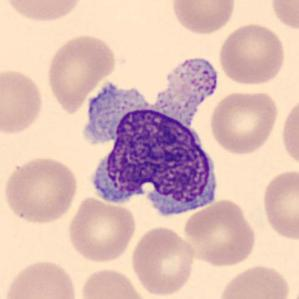Monocyte: (80, 56, 223, 222)
RBC: (44, 31, 118, 114), (0, 155, 80, 226), (181, 198, 258, 268), (65, 195, 137, 264), (207, 88, 280, 156), (129, 225, 197, 297), (217, 20, 287, 87), (0, 66, 46, 137), (2, 258, 80, 299), (215, 261, 292, 299), (259, 167, 298, 242), (170, 0, 238, 36), (78, 266, 150, 299), (2, 0, 87, 24), (278, 94, 299, 171), (268, 0, 299, 33)
